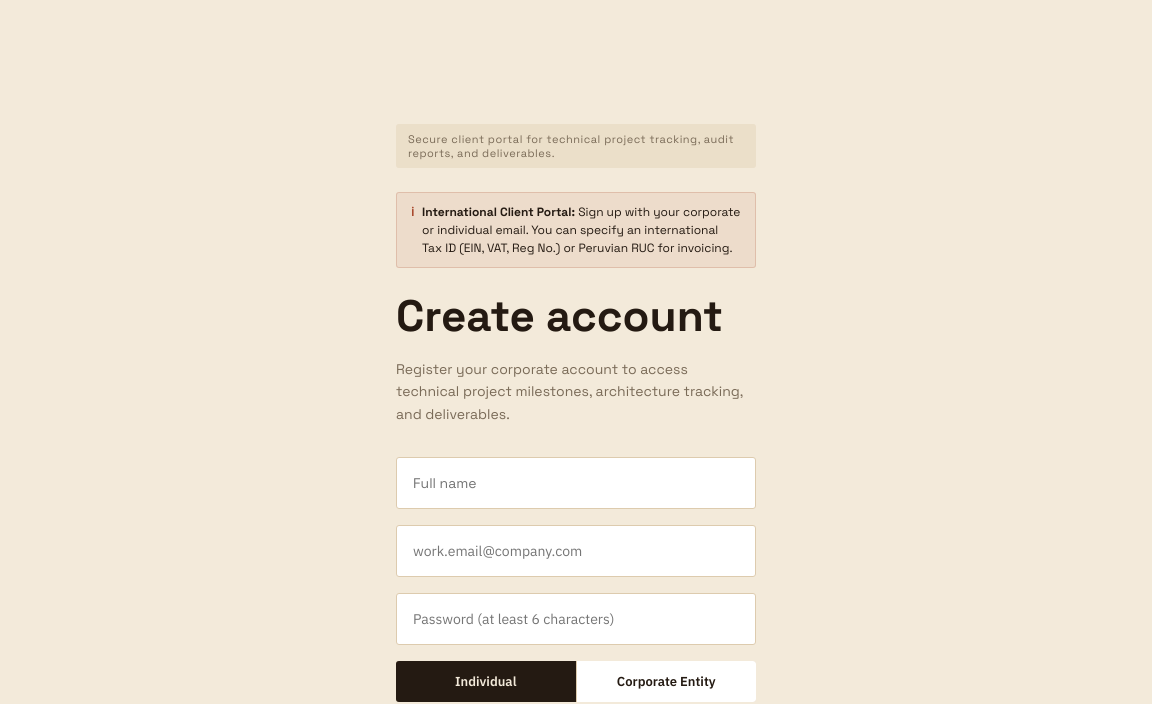
Registro Component › shows flexible tax ID input when Corporate Entity is selected in English
Click the button "Corporate Entity" at (666, 682), box [576,661,756,702]
(page scrolled)
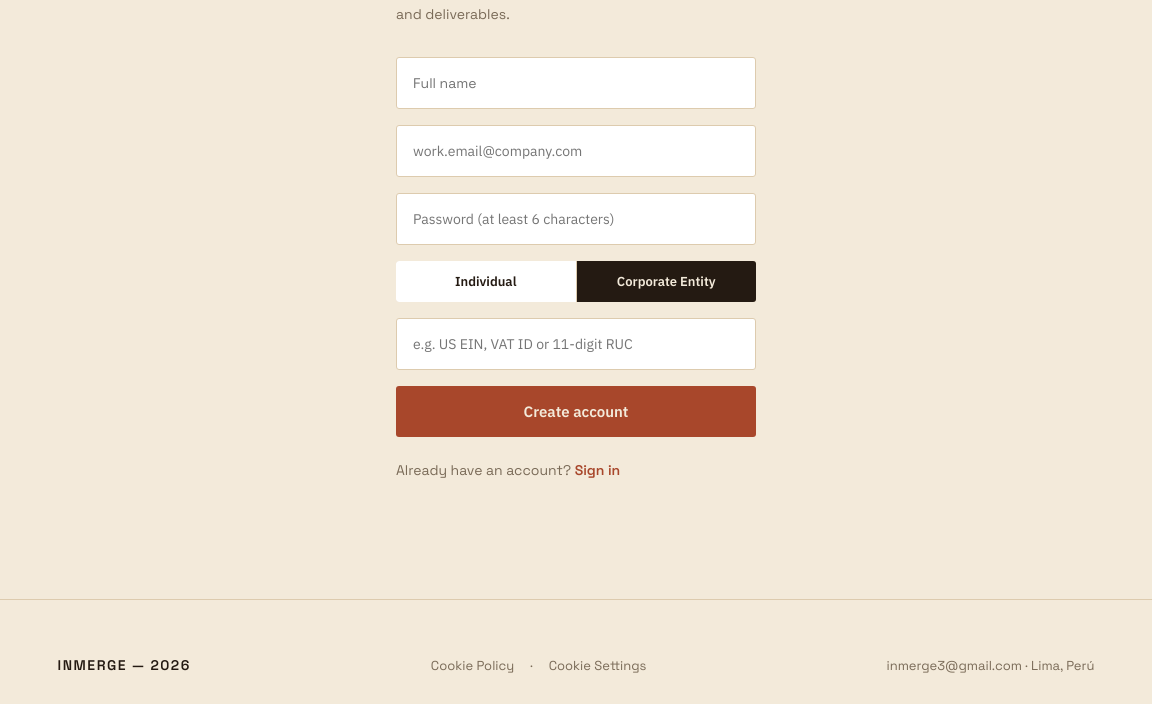
Now the field with placeholder "e.g. US EIN, VAT ID or 11-digit RUC" is shown, box [396,318,756,370]
